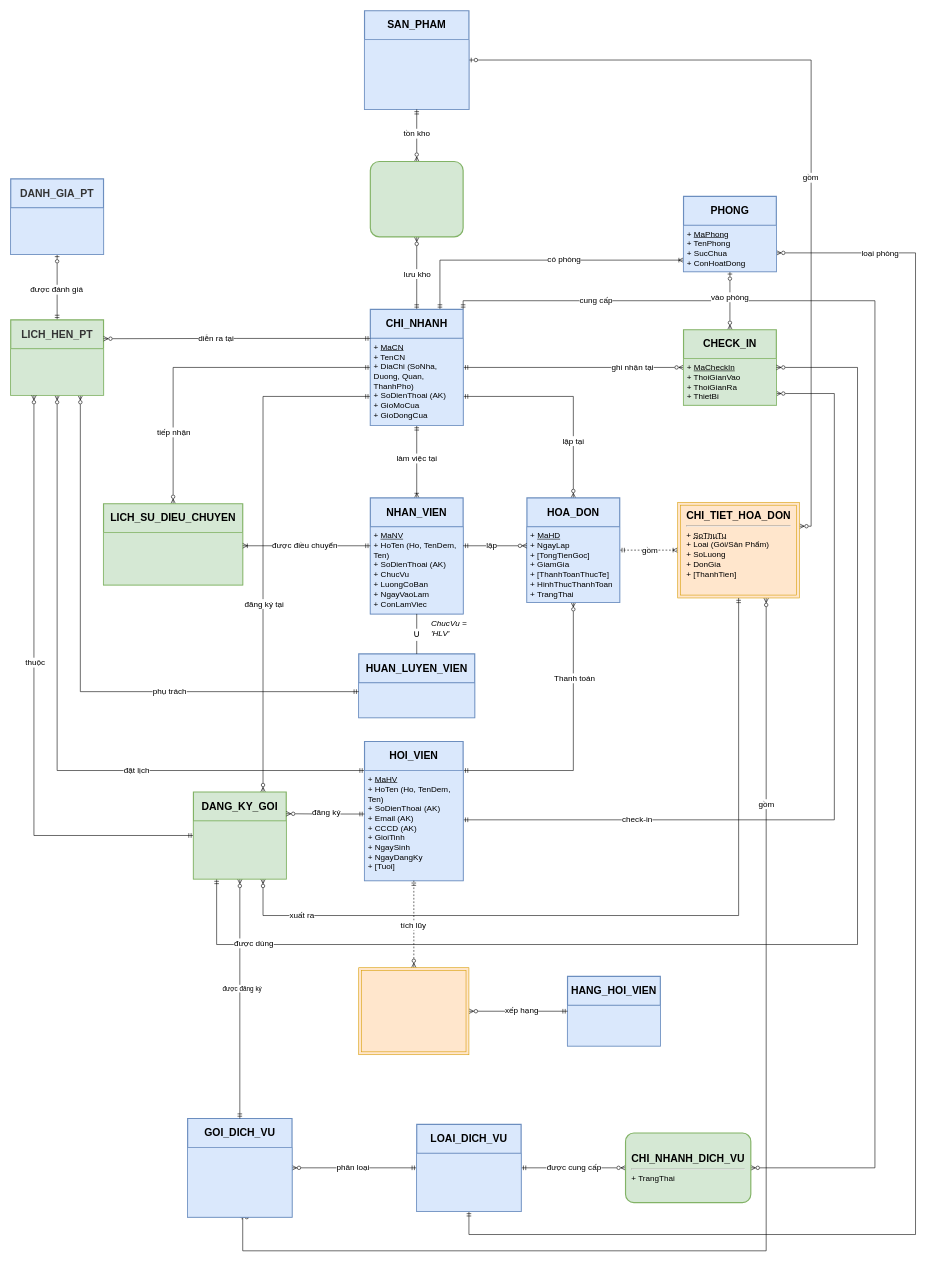
This 931x1266 diagram has some shape labels left out. The centre of each missing label's shape, as x and y in pixels:
"+ ChuyenMon + {ChungChi} + HoaHongMoiBuoi" goes at (416,700).
"+ MaDanhGia + Diem + NhanXet + NgayDanhGia" goes at (57,230).
"+ MaDieuChuyen + NgayBatDau + NgayKetThuc + LyDo" goes at (173,558).
"+ MaDK + NgayBatDau + [NgayKetThuc] + TrangThai + BuoiConLai" goes at (239,849).
"+ MaGoi + TenGoi + ThoiHanThang + SoBuoi + GiaTien + ConHieuLuc" goes at (239,1182).
"+ MaHang + TenHang (AK) + NguongChiTieu" goes at (613,1025).
"+ MaLichHen + NgayGioHen + ThoiLuong + TrangThai" goes at (57,371).
"+ MaLoai + TenLoai (AK) + MoTa" goes at (468,1182).
"+ MaSP + TenSP + GiaBan + Loai + DonViTinh + ConBan" goes at (416,74).
"DIEM_LOYALTY + NamXet + TongChiTieuNam + DiemThuong + NgayCapNhat" goes at (413,1011).
"TON_KHO + SoLuong + NgayCapNhat" goes at (416,199).
